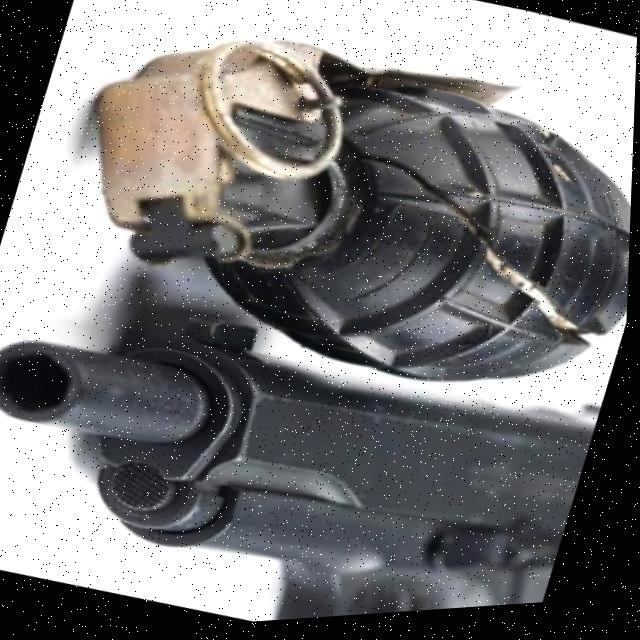grenade: (20, 0, 640, 474)
